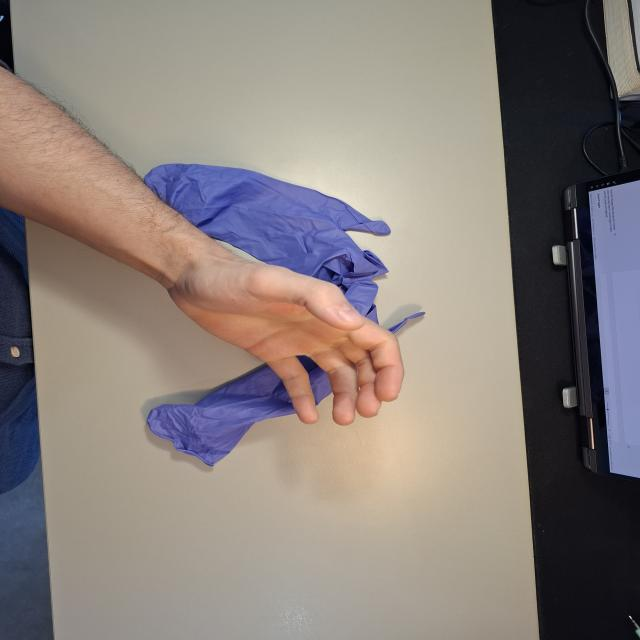glove_off: (159, 241, 407, 427)
